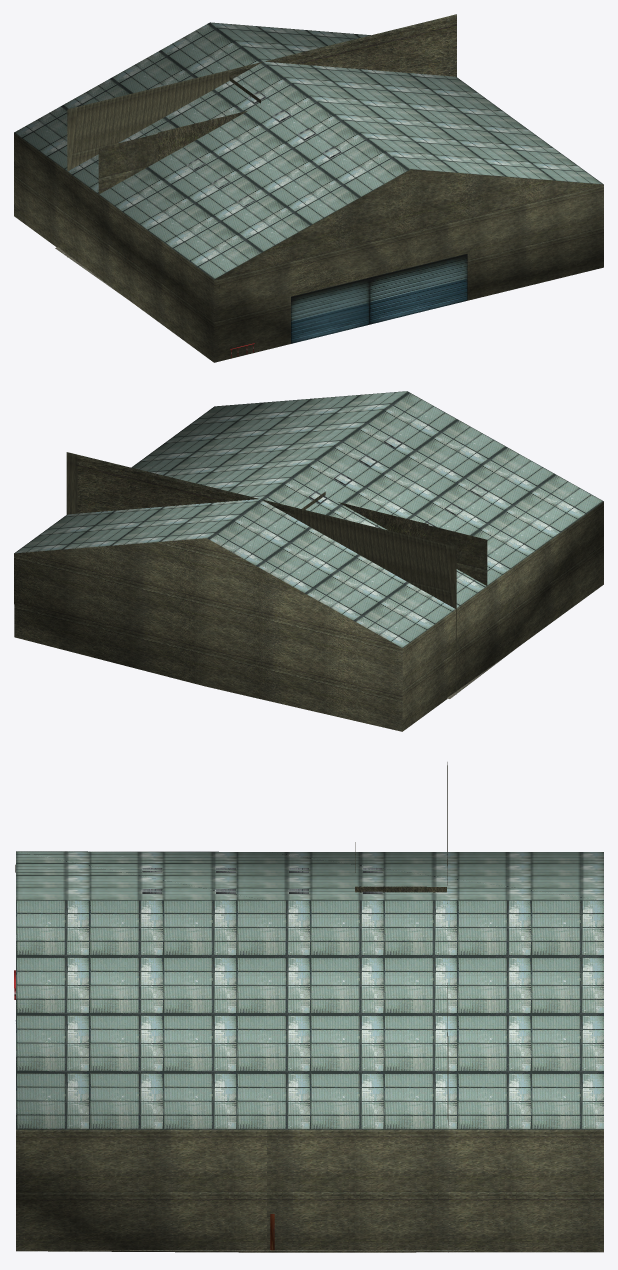
Rendered from garage.fbx.
3 renders of one model, top to bottom at view 1: azimuth 30°, elevation 25°; view 2: azimuth 150°, elevation 25°; view 3: azimuth 270°, elevation 25°, orthographic. The views are drawn at different scales.
Visible parts, largest first — view 1: garage, doors; view 2: garage; view 3: garage.
Boxes of the visible parts, bbox=[...] form: garage: bbox=[14, 14, 603, 362]; doors: bbox=[371, 255, 466, 323]; garage: bbox=[14, 391, 603, 731]; garage: bbox=[14, 762, 603, 1252].
Bounding box in the file's own units: 3689 × 1410 × 3276.
